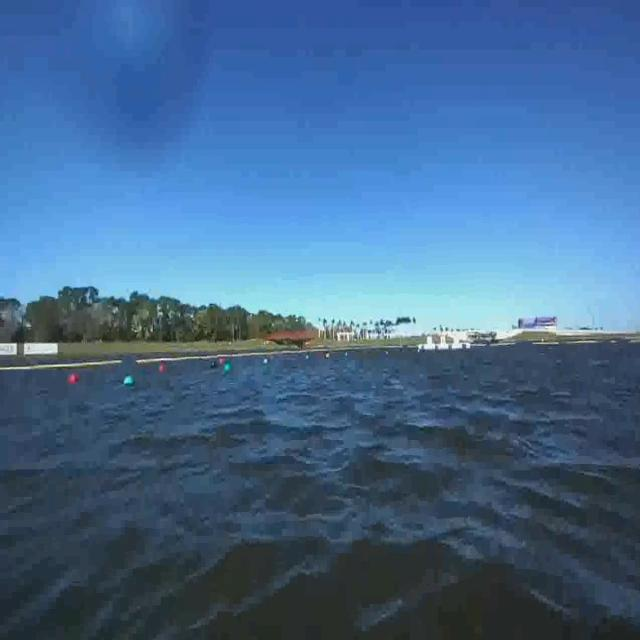green-buoy: (125, 372, 134, 393)
red-buoy: (69, 374, 79, 383)
